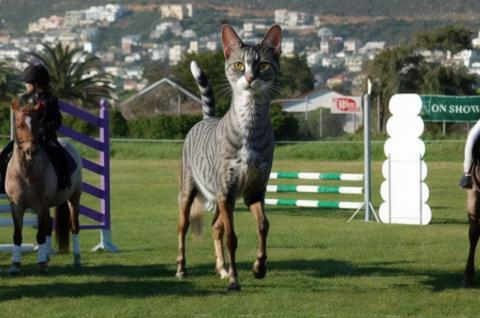cat: (180, 21, 281, 203)
horse: (176, 103, 280, 291), (7, 99, 84, 276)
person: (2, 66, 77, 191)
